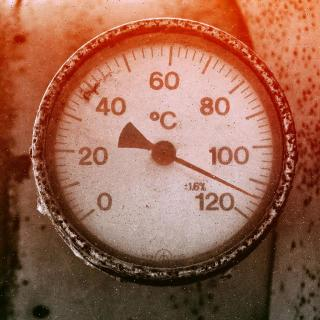gauge: (20, 1, 312, 315), (72, 193, 112, 230), (221, 196, 251, 224), (150, 139, 178, 167), (248, 190, 264, 203)
